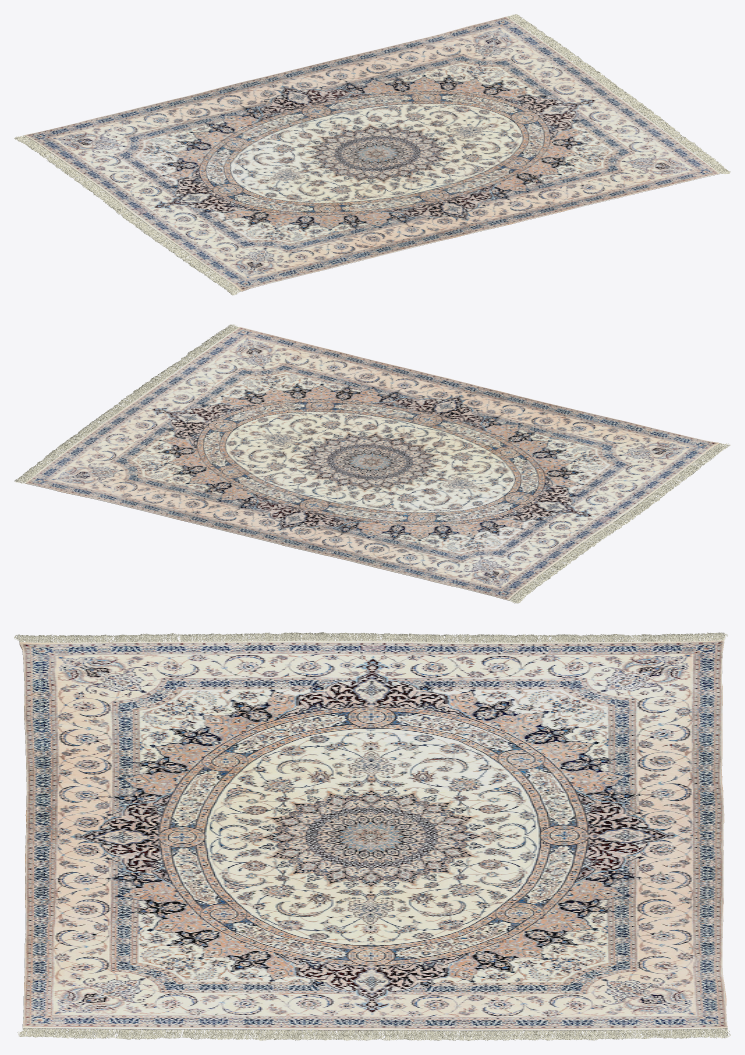
The model's file is persian-nain-carpet.glb.
3 views of the same model, one above another, from view 1: azimuth 30°, elevation 25°; view 2: azimuth 150°, elevation 25°; view 3: azimuth 270°, elevation 25° (orthographic). The views are drawn at different scales.
Visible parts, largest first — view 1: Persian Nain Carpet_2, frange1_0, frange2_1; view 2: Persian Nain Carpet_2, frange1_0, frange2_1; view 3: Persian Nain Carpet_2, frange2_1, frange1_0.
Boxes of the visible parts, x1,y1,x2,y2 form: Persian Nain Carpet_2: (24,16,719,291); frange1_0: (14,135,240,295); frange2_1: (507,14,730,173); Persian Nain Carpet_2: (25,327,719,600); frange1_0: (508,443,730,603); frange2_1: (14,324,238,483); Persian Nain Carpet_2: (19,640,727,1030); frange2_1: (17,1028,730,1040); frange1_0: (14,632,727,642).
Size of the model in its own units: 3 by 0.0178 by 2.23.
2 materials, 1 textured.
